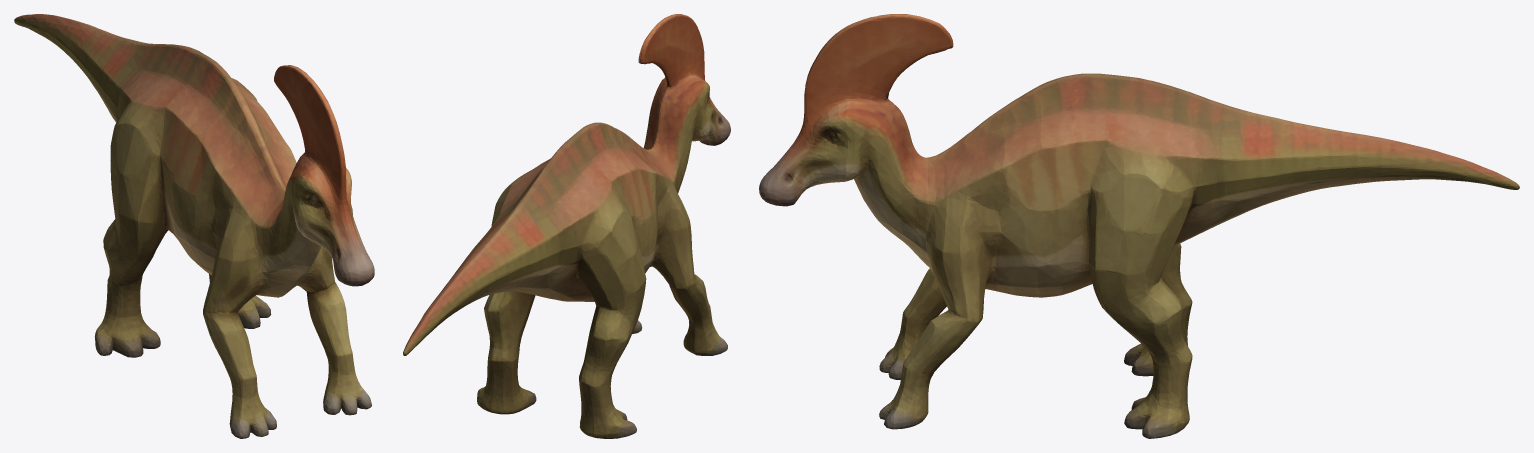
The picture shows the model from 3 angles, left to right: view 1: azimuth 30°, elevation 25°; view 2: azimuth 150°, elevation 25°; view 3: azimuth 270°, elevation 25°; orthographic projection. The views are drawn at different scales.
Parts seen in each view (by area): view 1: geometry_0; view 2: geometry_0; view 3: geometry_0.
Boxes of the visible parts, x1,y1,x2,y2 form: geometry_0: (14,14,374,438); geometry_0: (403,14,730,438); geometry_0: (759,14,1519,438).
Size of the model in its own units: 0.2824 by 0.5514 by 1.
Materials: 1 (1 with a texture image).
